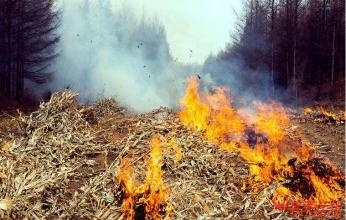fire: (166, 69, 343, 207), (116, 130, 181, 218)
